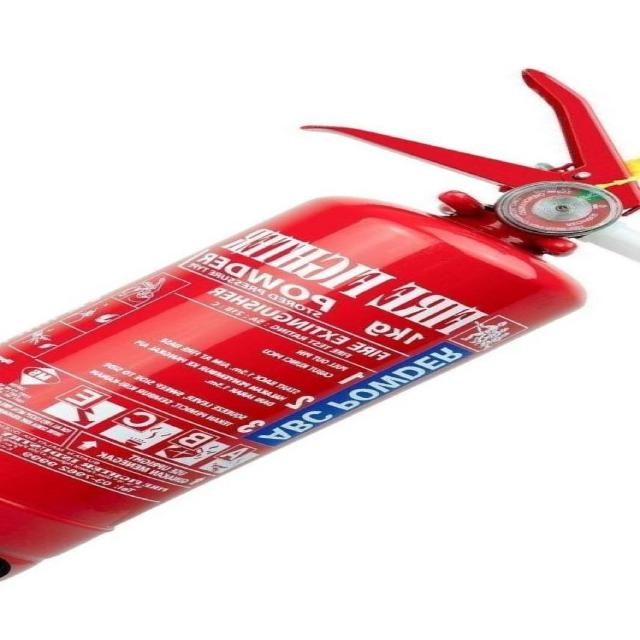fire_extinguisher: (0, 63, 636, 608)
